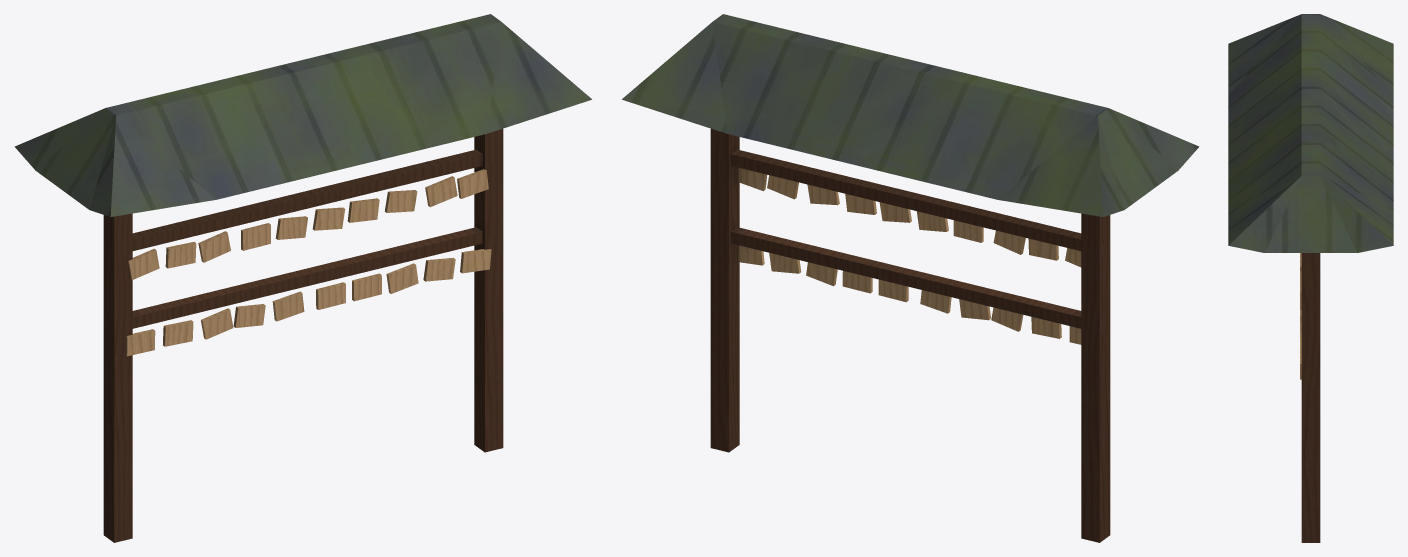
Rendered from ema_tex.glb.
The picture shows the model from 3 angles, left to right: view 1: azimuth 30°, elevation 25°; view 2: azimuth 150°, elevation 25°; view 3: azimuth 270°, elevation 25°; orthographic projection. The views are drawn at different scales.
Visible parts, largest first — view 1: ema; view 2: ema; view 3: ema.
Boxes of the visible parts, box(x1,y1,x2,y2) form: ema: box(14, 14, 591, 542); ema: box(622, 14, 1199, 542); ema: box(1228, 14, 1393, 542).
Size of the model in its own units: 2.6 by 2.2 by 0.9.
3 materials, 3 textured.
